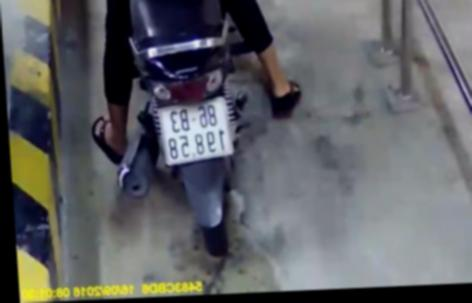License_Plate: (155, 92, 237, 167)
